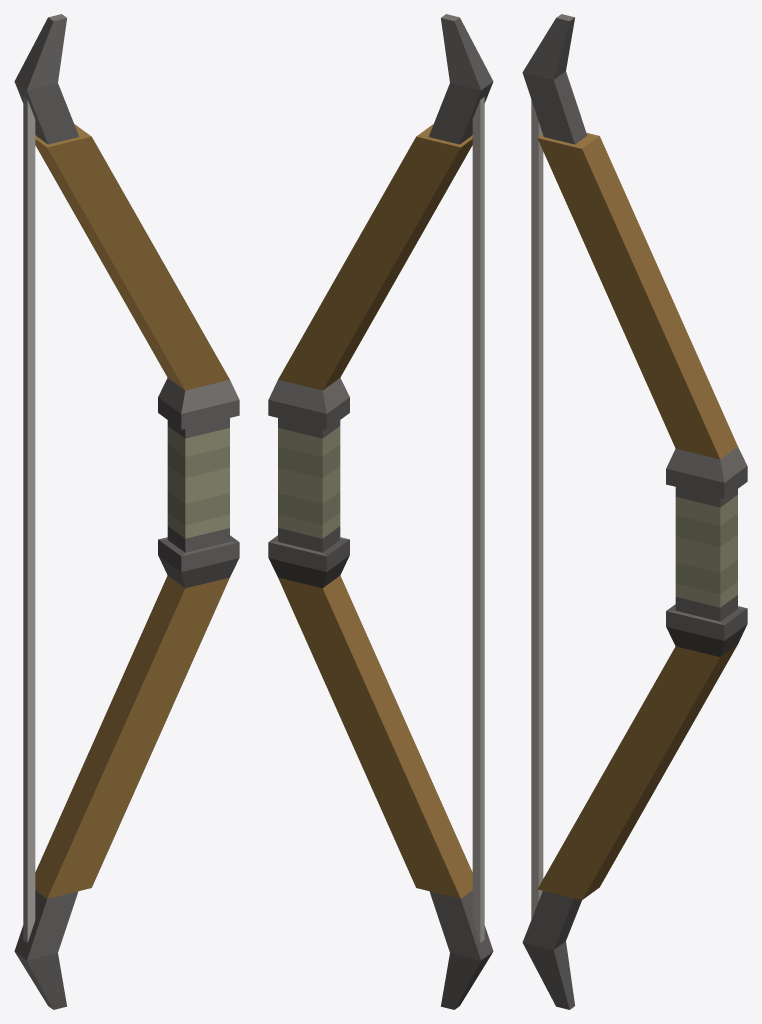
File: SF_Wep_Human_Bow_01.fbx
The picture shows the model from 3 angles, left to right: view 1: azimuth 30°, elevation 25°; view 2: azimuth 150°, elevation 25°; view 3: azimuth 330°, elevation 25°; orthographic projection.
Parts seen in each view (by area): view 1: SF_Wep_Human_Bow_01; view 2: SF_Wep_Human_Bow_01; view 3: SF_Wep_Human_Bow_01.
Boxes of the visible parts, left/top/right/bottom form: SF_Wep_Human_Bow_01: left=14, top=14, right=239, bottom=1009; SF_Wep_Human_Bow_01: left=268, top=14, right=493, bottom=1009; SF_Wep_Human_Bow_01: left=522, top=14, right=747, bottom=1009.
Bounding box in the file's own units: 0.6201 × 2.83 × 0.1198.
